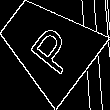P_NW: (18, 15, 78, 75)
